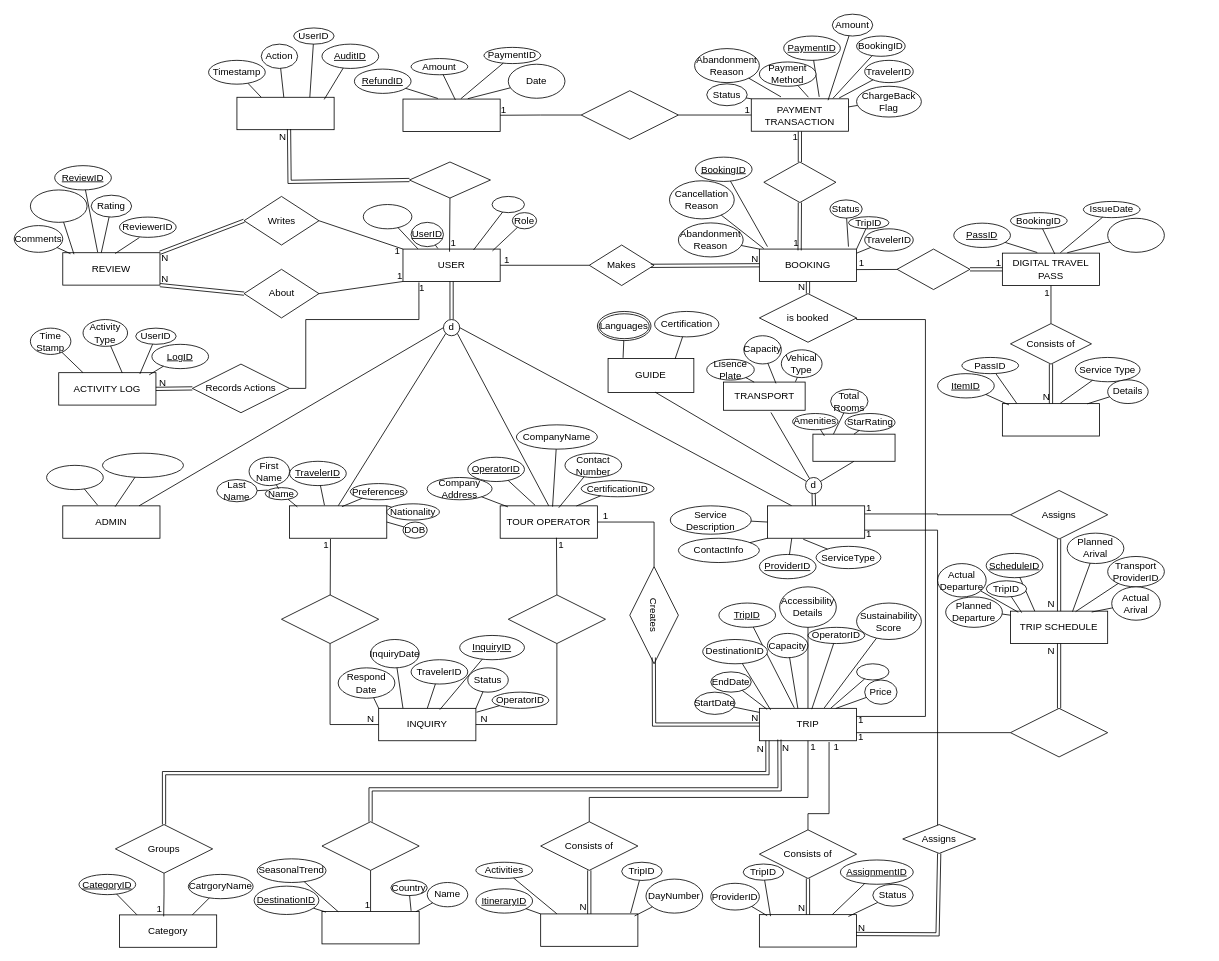
Image size: 1219x961. Some labels were removed from this diagram. The centre of each missing label's shape, as x and y in pixels:
"AdminID" belongs at point (74, 477).
"Associated With" belongs at point (1059, 732).
"AUDIT TRAIL" belongs at point (285, 113).
"Can Have" belongs at point (370, 845).
"Could get" belongs at point (629, 114).
"Department" belongs at point (142, 464).
"DESTINATION" belongs at point (370, 927).
"DIGITAL PASS ITEM" belongs at point (1051, 419).
"Email" belongs at point (507, 204).
"ExpiryDate" belongs at point (1135, 234).
"Generates" belongs at point (933, 269).
"HOTEL" belongs at point (853, 447).
"ITINERARY" belongs at point (589, 929).
"Password" belongs at point (387, 216).
"PAYMENT REFUND" belongs at point (451, 114).
"Performs" belongs at point (449, 179).
"Receives" belongs at point (556, 619).
"RESOURCE ASSIGNMENT" belongs at point (808, 930).
"Results in" belongs at point (799, 181).
"Reviewer Type" belongs at point (58, 205).
"Sends" belongs at point (330, 619).
"SERVICE PROVIDER" belongs at point (816, 521).
"Title" belongs at point (872, 671).
"TRAVELER" belongs at point (338, 521).
